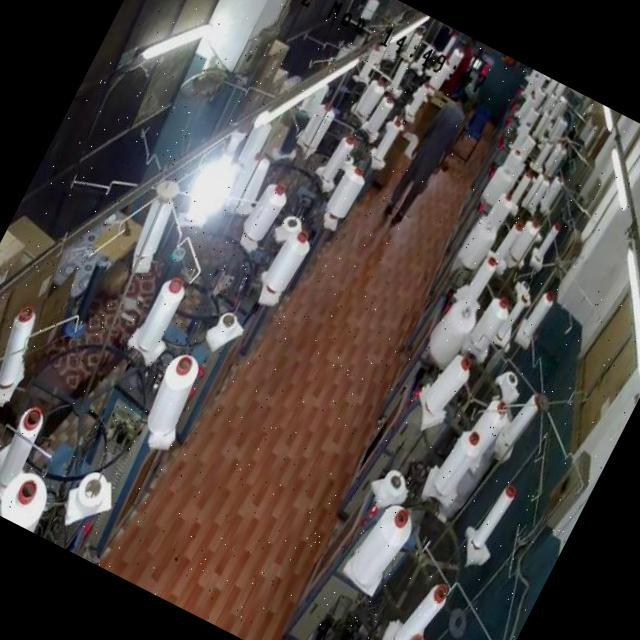person: (385, 84, 476, 222)
